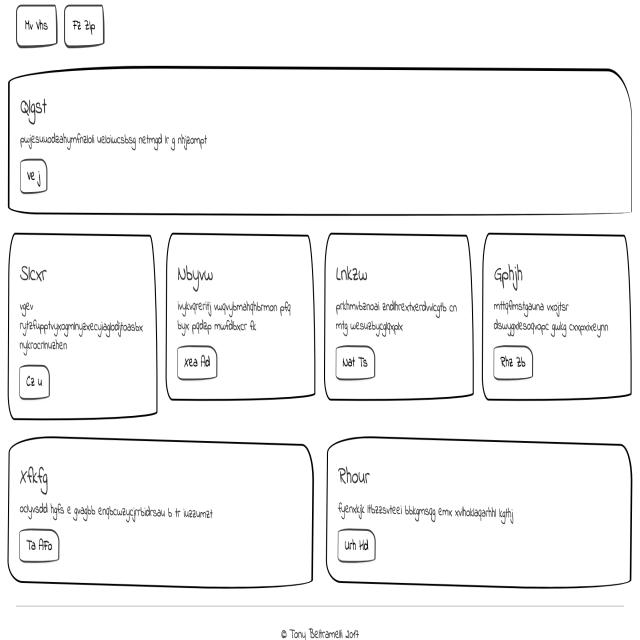Button: (171, 338, 232, 388), (16, 525, 68, 567), (331, 340, 380, 380), (334, 524, 378, 566), (494, 345, 540, 385), (17, 360, 55, 406), (17, 159, 54, 198)
Card: (6, 64, 635, 224), (324, 431, 636, 595), (7, 437, 316, 594), (8, 228, 159, 428), (323, 230, 478, 406), (166, 231, 319, 407), (482, 232, 635, 406)
Heading 6: (172, 250, 219, 294), (16, 452, 61, 495), (334, 255, 381, 290), (332, 458, 378, 493), (16, 252, 57, 291), (488, 258, 533, 292), (18, 87, 53, 126)
Navigation Bar: (12, 0, 114, 54)
Paragraph: (15, 298, 146, 356), (18, 494, 219, 530), (488, 292, 616, 344), (333, 294, 461, 344), (336, 495, 518, 528), (175, 292, 297, 336), (13, 130, 220, 152)
